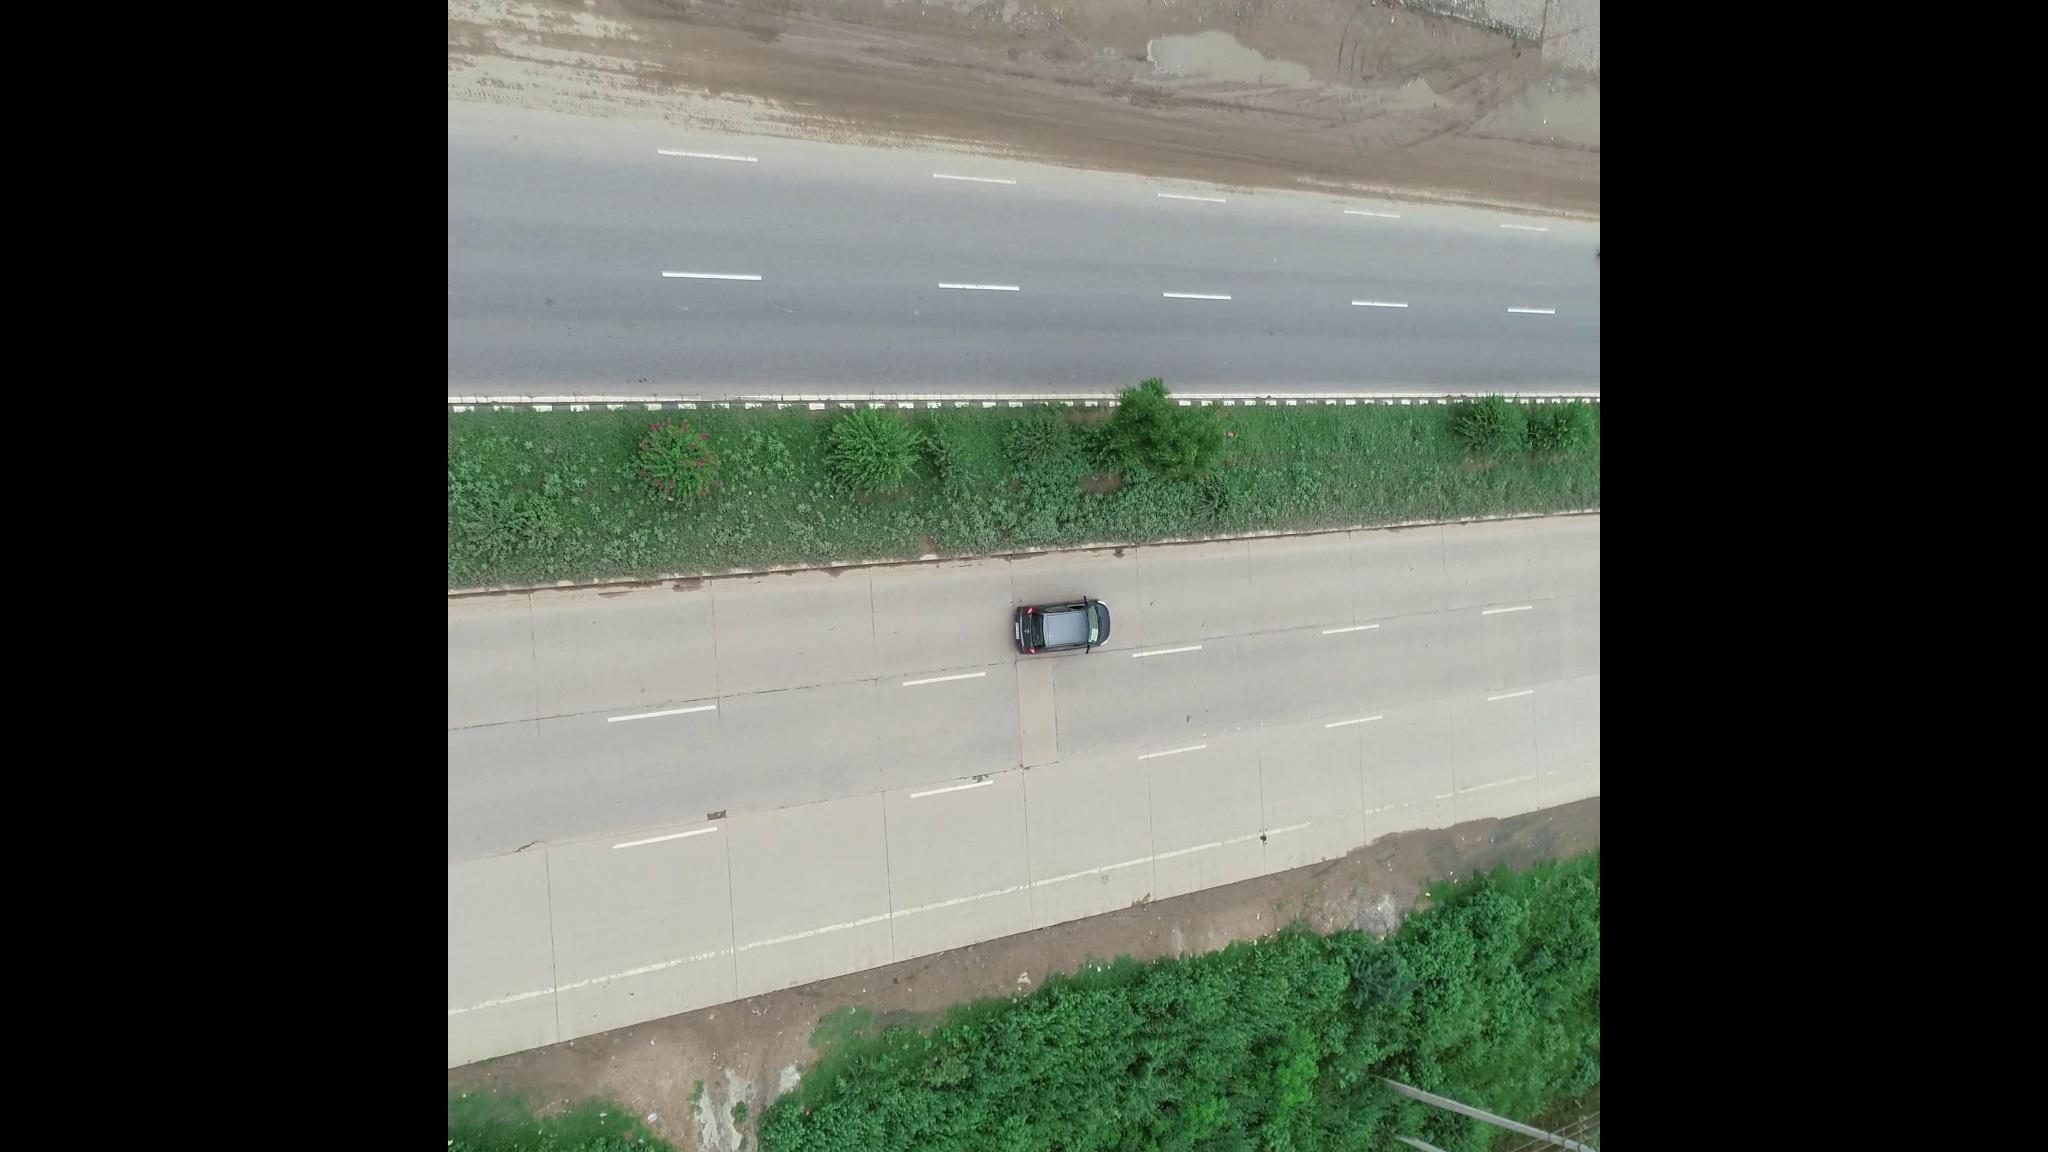Muddy_road: (805, 60, 1165, 183), (1198, 107, 1577, 217)
